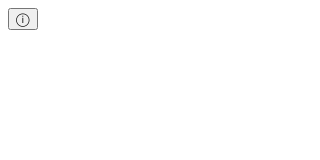
Test case: is a named button whose title and description hold the text; a click or Enter opens it without the title, Escape closes it
Later steps or results of the test are not shown.
Expected: the text "OHKO: the chance it faints in one hit." is not shown
Step 1. Click the button named "About Your choice" → {"x": 23, "y": 19}, box [8, 8, 38, 30]
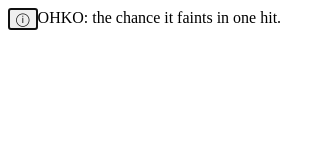
Expected: the button named "About Your choice" is expanded, [8, 8, 38, 30]
Expected: the tooltip "OHKO: the chance it faints in one hit." is shown, [38, 9, 281, 26]
